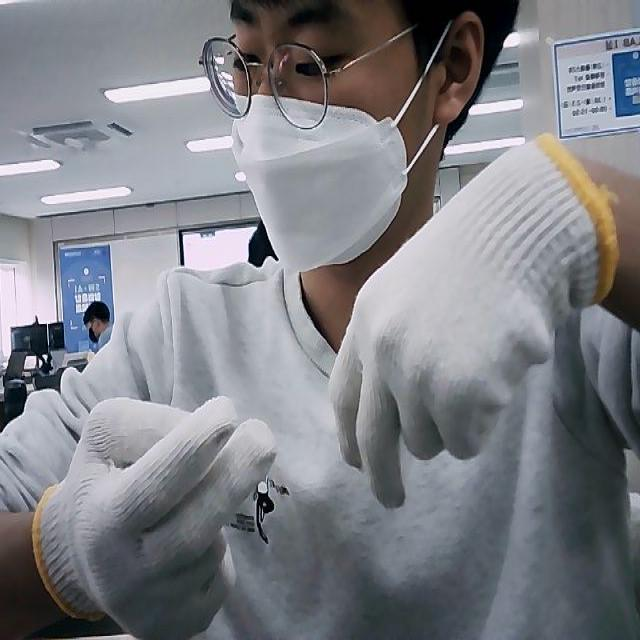gloves: (329, 130, 617, 510), (29, 394, 276, 640)
